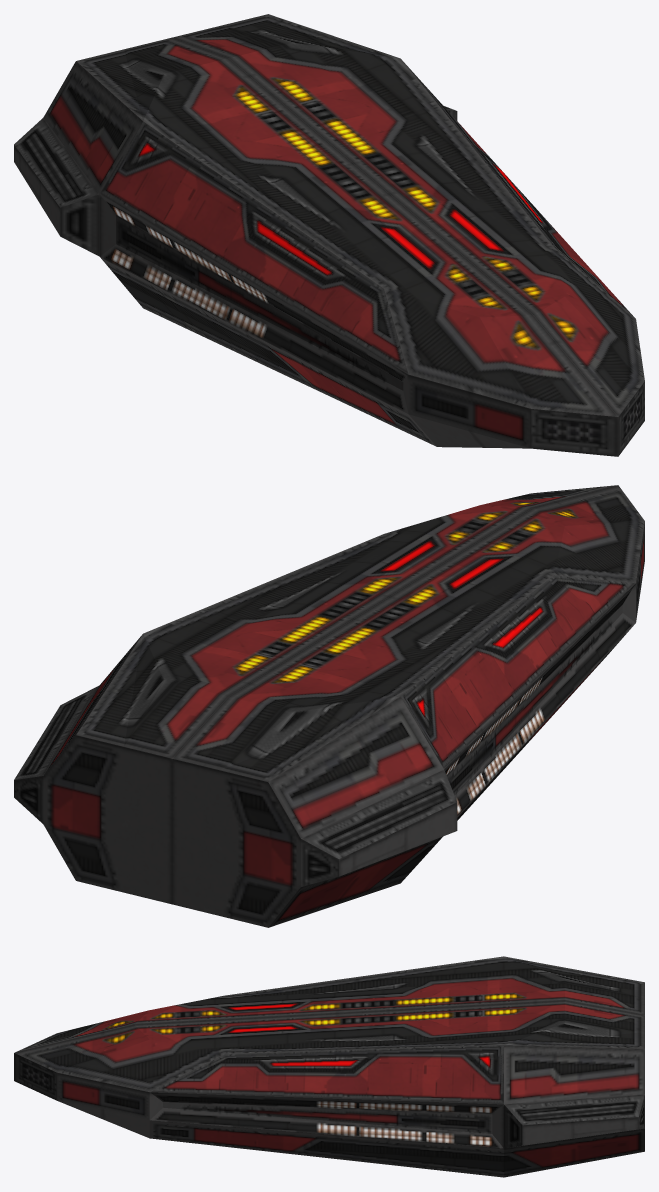
The model's file is BFP_ForwardHull.FBX.
The picture shows the model from 3 angles, top to bottom: view 1: azimuth 30°, elevation 25°; view 2: azimuth 150°, elevation 25°; view 3: azimuth 270°, elevation 25°; orthographic projection. The views are drawn at different scales.
Visible parts, largest first — view 1: BFP_ForwardHull; view 2: BFP_ForwardHull; view 3: BFP_ForwardHull.
Boxes of the visible parts, x1,y1,x2,y2 form: BFP_ForwardHull: [14, 14, 644, 456]; BFP_ForwardHull: [14, 485, 644, 927]; BFP_ForwardHull: [14, 956, 644, 1177].
Bounding box in the file's own units: 1286 × 579 × 2504.
Materials: 1 (1 with a texture image).
